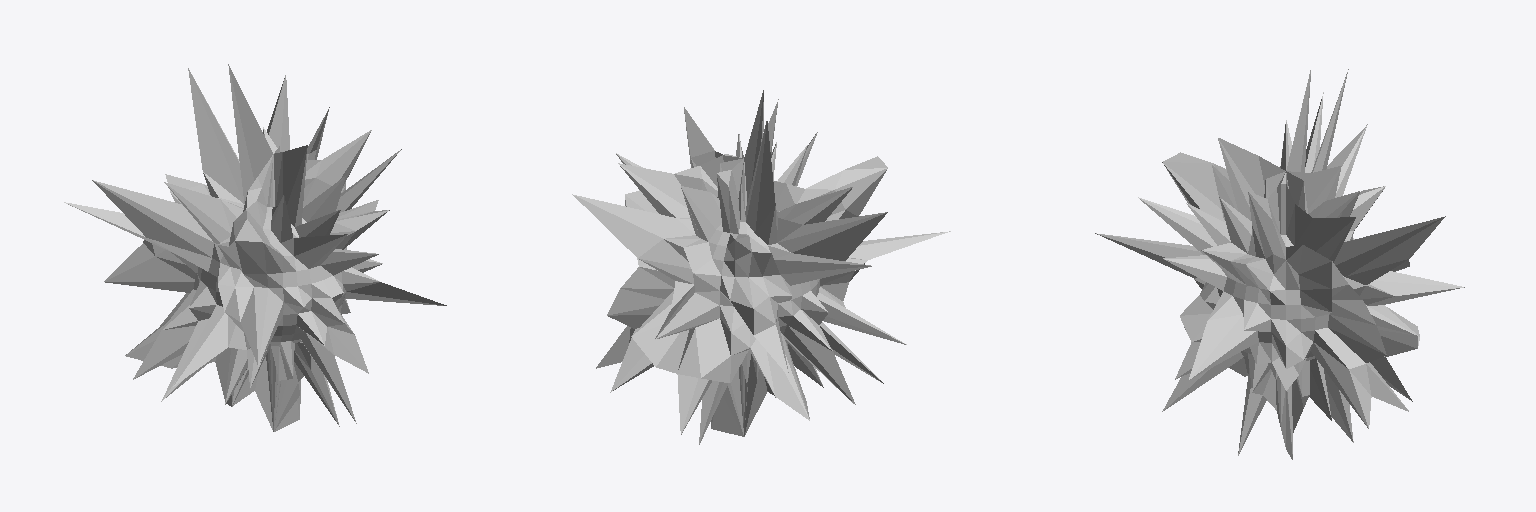
File: ball_pikes2.obj
3 views of the same model, side by side, from view 1: azimuth 30°, elevation 25°; view 2: azimuth 150°, elevation 25°; view 3: azimuth 270°, elevation 25° (orthographic).
Visible parts, largest first — view 1: Outside_ball_pieks_2; view 2: Outside_ball_pieks_2; view 3: Outside_ball_pieks_2.
Part boxes in pixels (bbox=[...]): Outside_ball_pieks_2: bbox=[64, 64, 446, 431]; Outside_ball_pieks_2: bbox=[572, 90, 950, 444]; Outside_ball_pieks_2: bbox=[1095, 69, 1464, 459].
Size of the model in its own units: 0.3834 by 0.4492 by 0.4111.